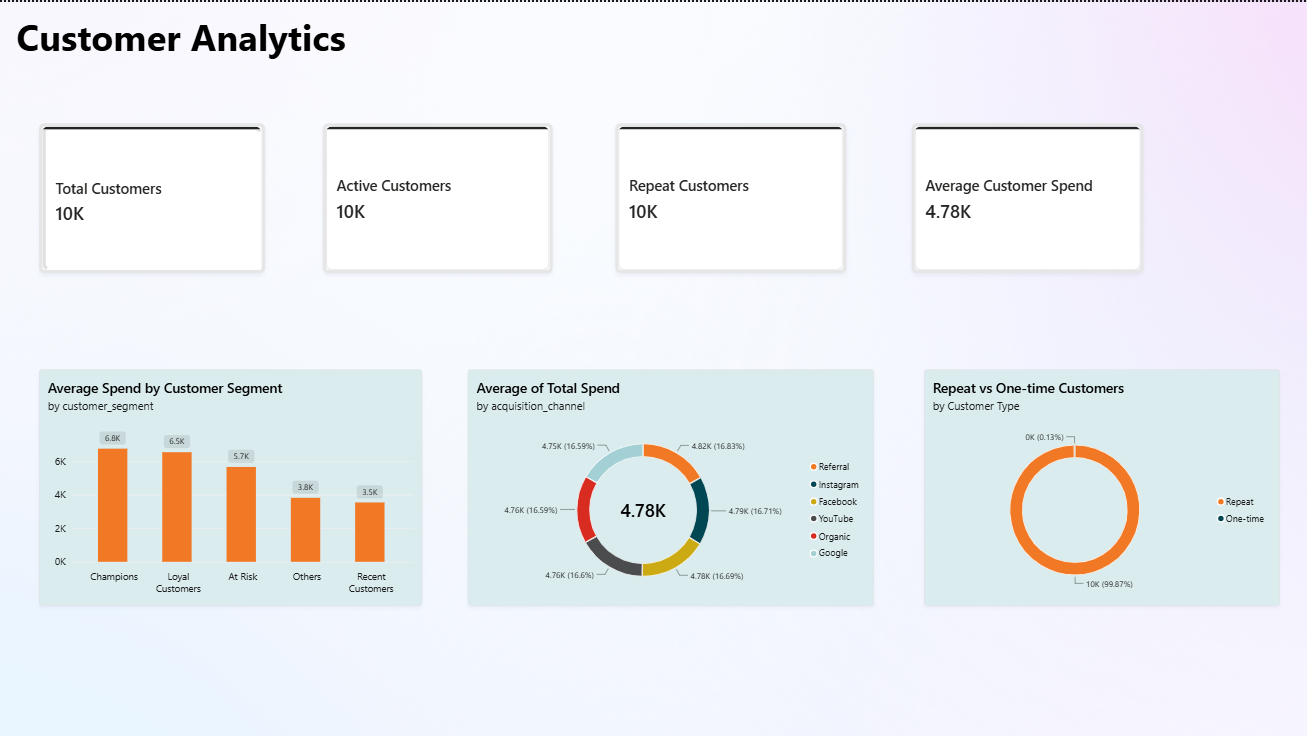

The page's visual inventory and layout, read from the dashboard file:
{"tool":"powerbi","page":{"name":"Customer Analytics","canvas":[1920,1080],"ordinal":1},"visuals":[{"type":"textbox","box":[26,14,522,80],"z":0},{"type":"cardVisual","fields":{"Data":["Order Status.Active Customers"]},"box":[475.1,177.9,337.5,220.1],"z":1000},{"type":"cardVisual","fields":{"Data":["Order Status.Repeat Customers"]},"box":[904.3,177.9,339.3,220.1],"z":2000},{"type":"cardVisual","fields":{"Data":["Order Status.Average Customer Spend"]},"box":[1339,177.9,341.2,220.1],"z":3000},{"type":"cardVisual","fields":{"Data":["Count(food_delivery_analytics vw_customer_metrics.customer_id)"]},"box":[58.7,177.9,332,220.1],"z":4000},{"type":"donutChart","fields":{"Category":["Customer Type.Customer Type"],"Y":["Customer Type.Repeat vs One-time Count"]},"box":[1358,540,522,346],"z":5000},{"type":"clusteredColumnChart","fields":{"Category":["food_delivery_analytics vw_customer_rfm.customer_segment"],"Y":["Avg(food_delivery_analytics vw_customer_rfm.monetary)"]},"box":[58.7,539.3,562,346],"z":6000},{"type":"donutChart","fields":{"Category":["food_delivery_analytics vw_customer_metrics.acquisition_channel"],"Y":["Avg(food_delivery_analytics vw_customer_metrics.total_spend)"]},"box":[688,540,596,346],"z":7000}]}

Visuals, with their boxes in screenshot pixels (x1, y1, x2, y2), scaled from the page's 1920x1080 canvas onto the 1307x736 screenshot:
textbox: detection(18, 10, 373, 64)
cardVisual - Order Status.Active Customers: detection(323, 121, 553, 271)
cardVisual - Order Status.Repeat Customers: detection(616, 121, 847, 271)
cardVisual - Order Status.Average Customer Spend: detection(911, 121, 1144, 271)
cardVisual - Count(food_delivery_analytics vw_customer_metrics.customer_id): detection(40, 121, 266, 271)
donutChart - Customer Type.Customer Type x Customer Type.Repeat vs One-time Count: detection(924, 368, 1280, 604)
clusteredColumnChart - food_delivery_analytics vw_customer_rfm.customer_segment x Avg(food_delivery_analytics vw_customer_rfm.monetary): detection(40, 368, 423, 603)
donutChart - food_delivery_analytics vw_customer_metrics.acquisition_channel x Avg(food_delivery_analytics vw_customer_metrics.total_spend): detection(468, 368, 874, 604)
